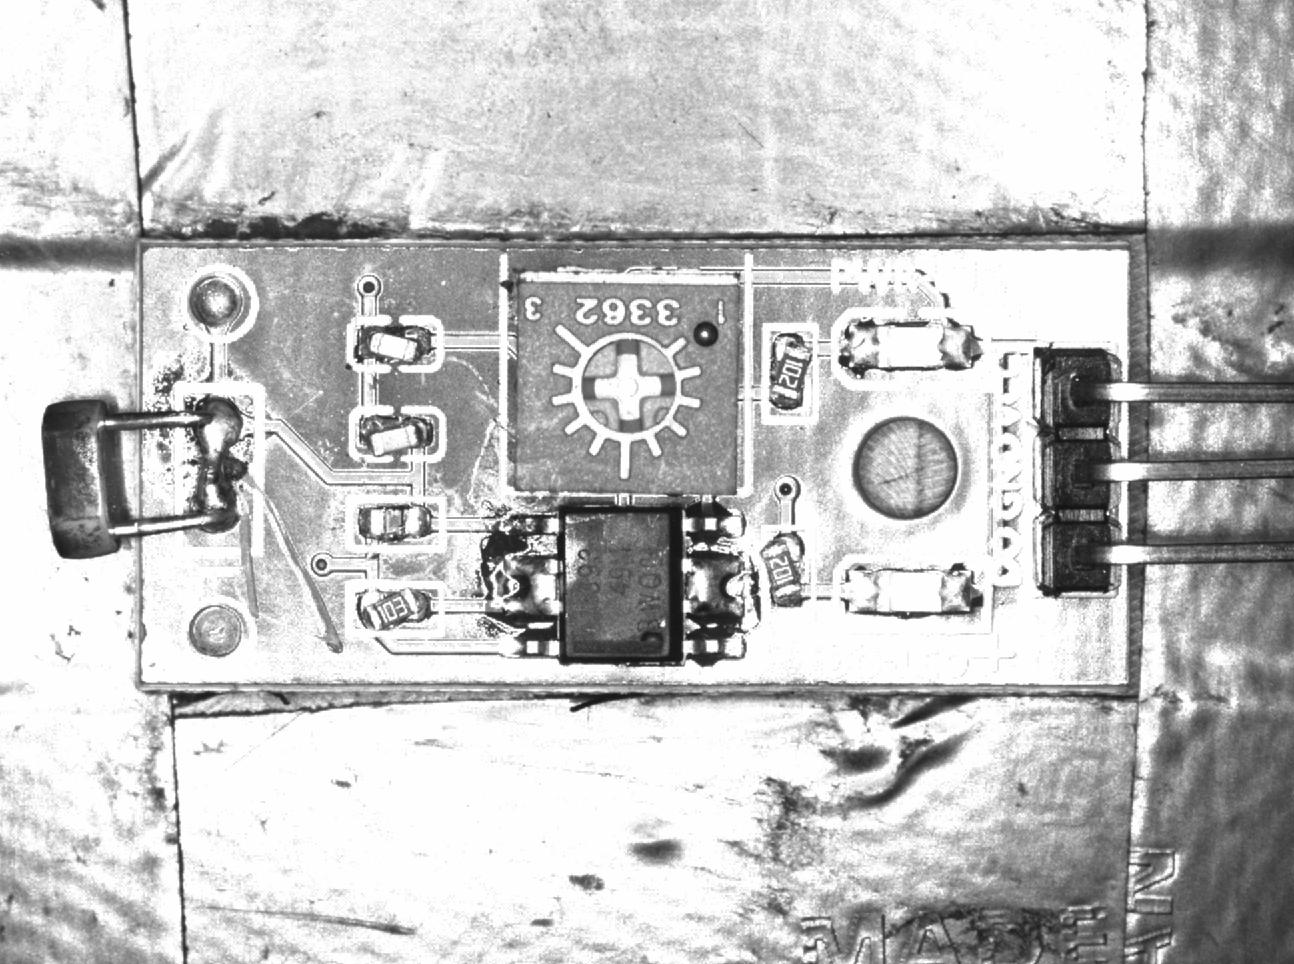bridge: (177, 389, 257, 549), (492, 547, 564, 623), (683, 546, 748, 628)
lifted: (343, 578, 447, 638), (347, 405, 450, 460), (349, 317, 444, 373), (763, 321, 817, 419), (758, 525, 810, 610)
miss: (348, 498, 441, 550)
